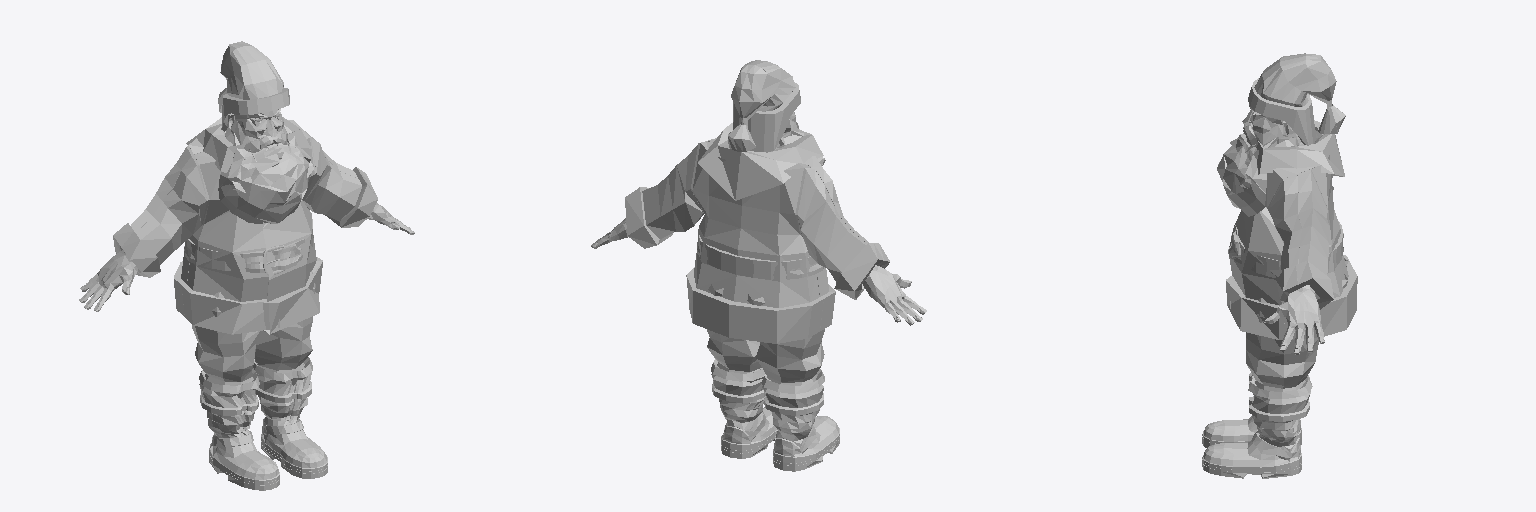
File: Santa Claus2.obj
The picture shows the model from 3 angles: view 1: azimuth 30°, elevation 25°; view 2: azimuth 150°, elevation 25°; view 3: azimuth 270°, elevation 25°; orthographic projection.
Size of the model in its own units: 1.79 by 2.1 by 0.7374.